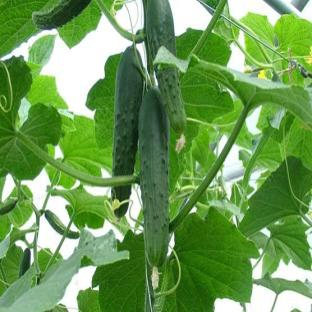Cucumber: (139, 87, 169, 271), (113, 46, 143, 176), (156, 67, 186, 140), (33, 0, 90, 29), (45, 211, 66, 235), (18, 248, 31, 278), (0, 200, 17, 216)
